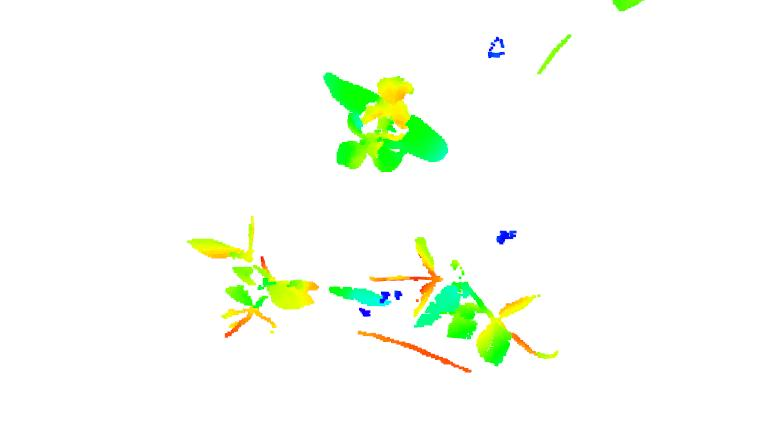mungbean: (190, 217, 387, 345), (369, 238, 563, 363), (322, 65, 454, 178)
